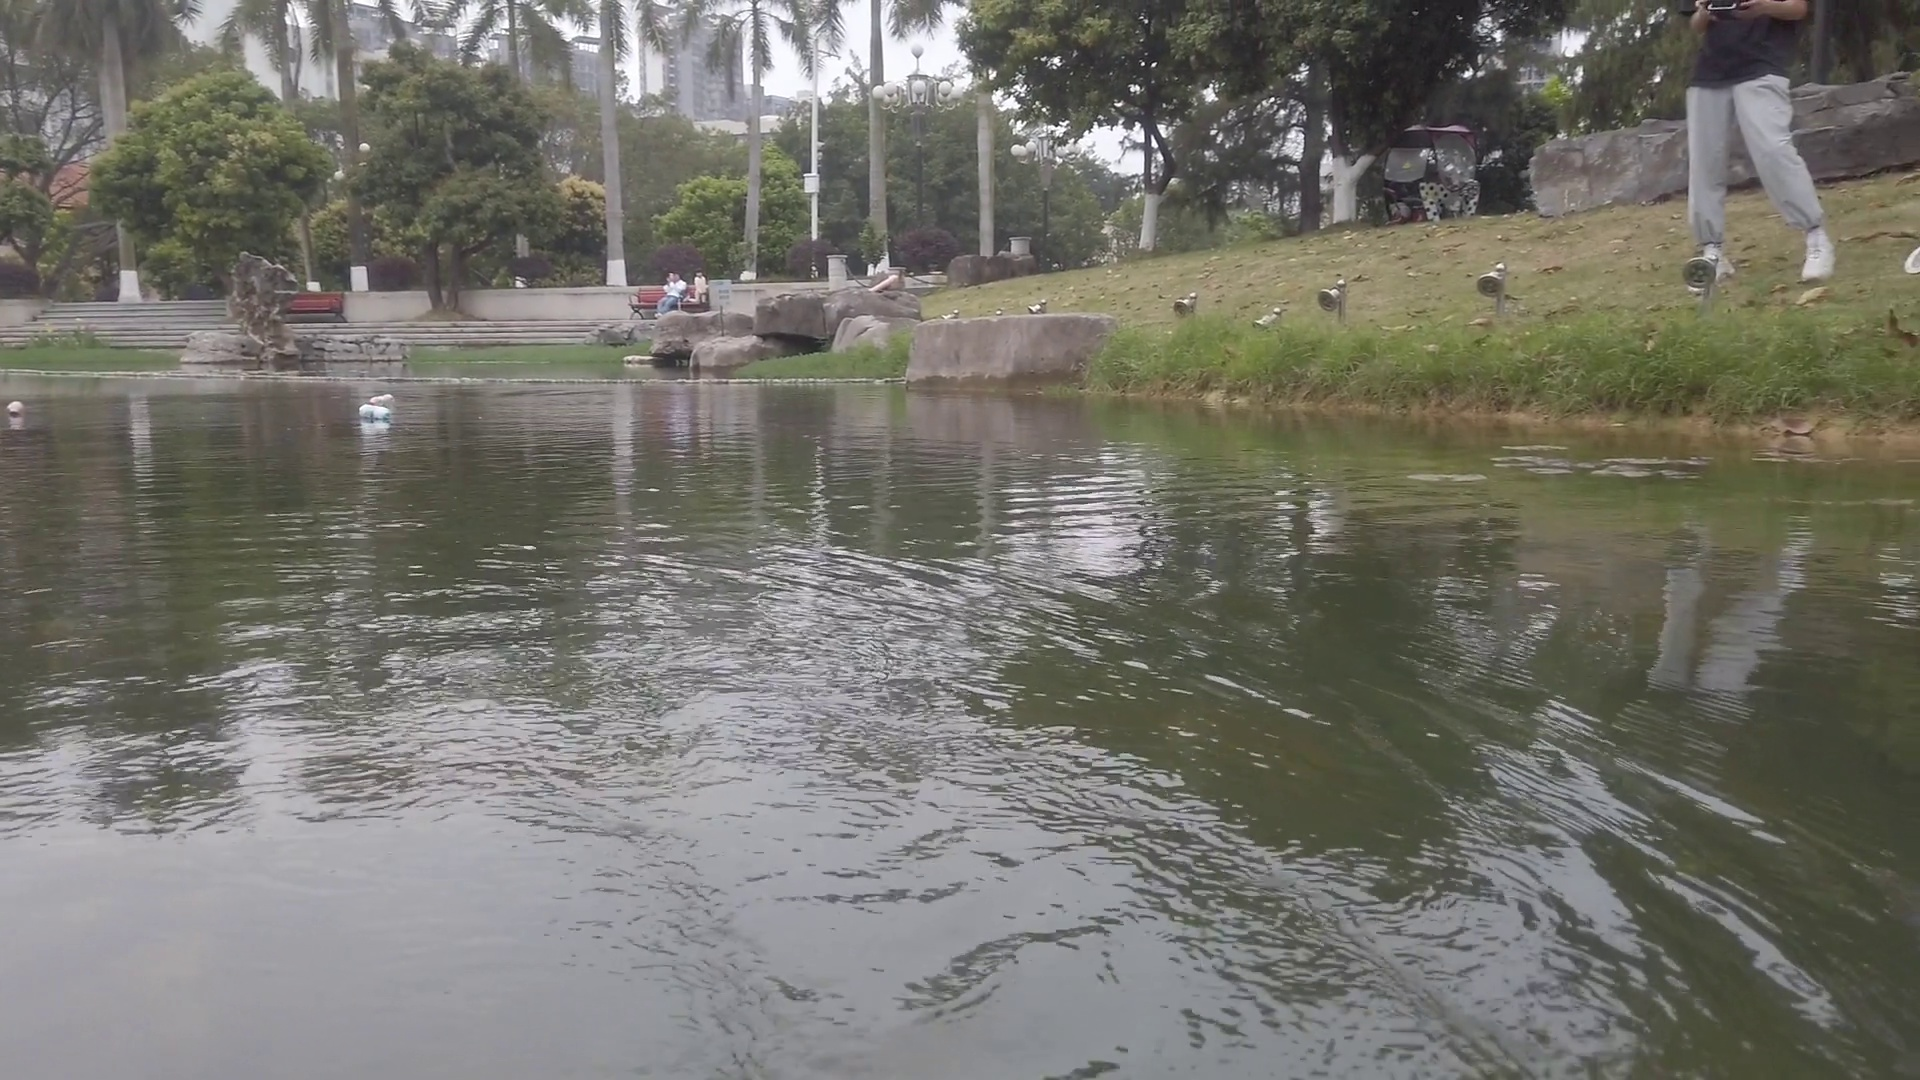bottle: (361, 404, 392, 421), (4, 397, 25, 415), (368, 396, 400, 405)
